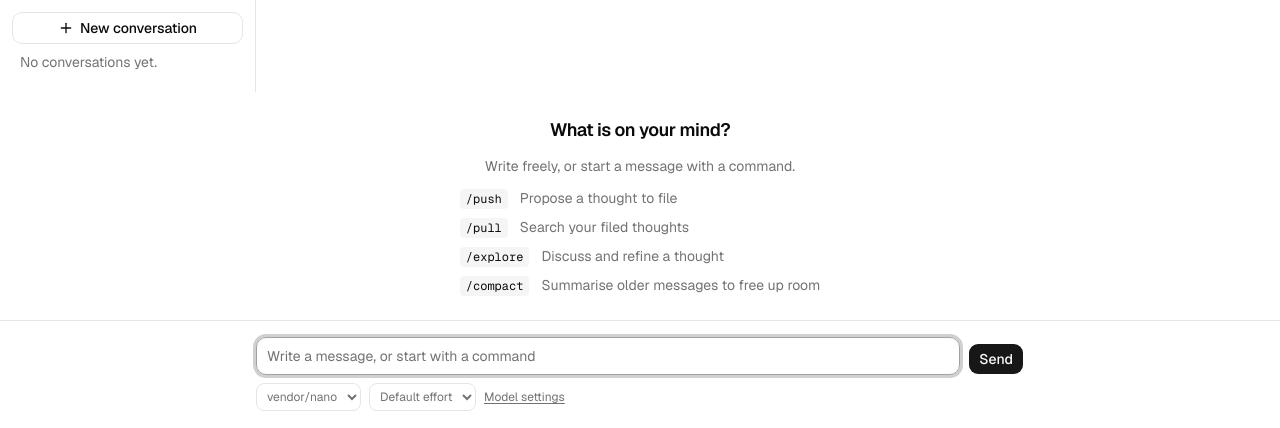
Test: NewChat › starts an empty chat on New conversation after a conversation began on the page
Type "first" into the text box labelled "message" at x=608, y=356, box [256,337,960,375]
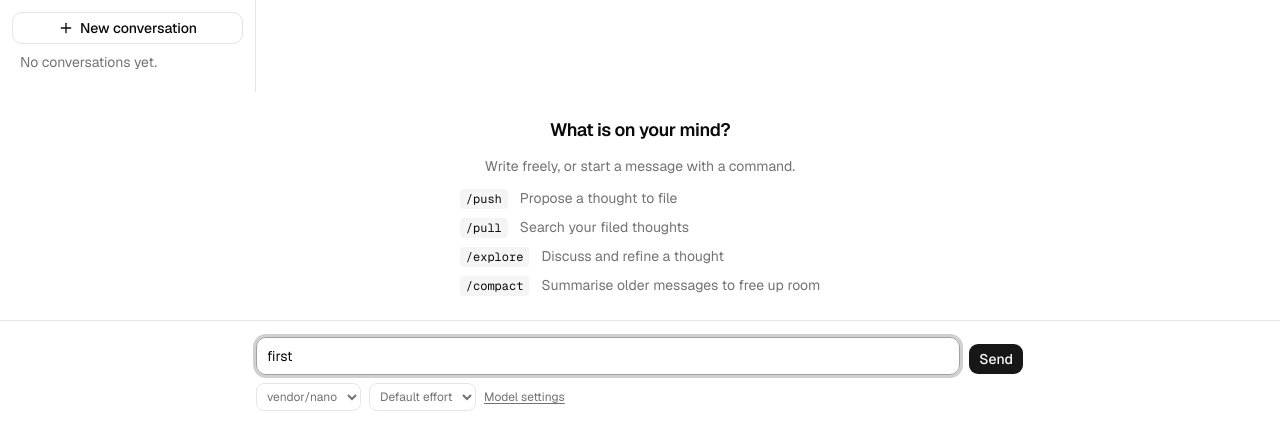
Click the button "Send" at x=996, y=359, box [968,343,1024,375]
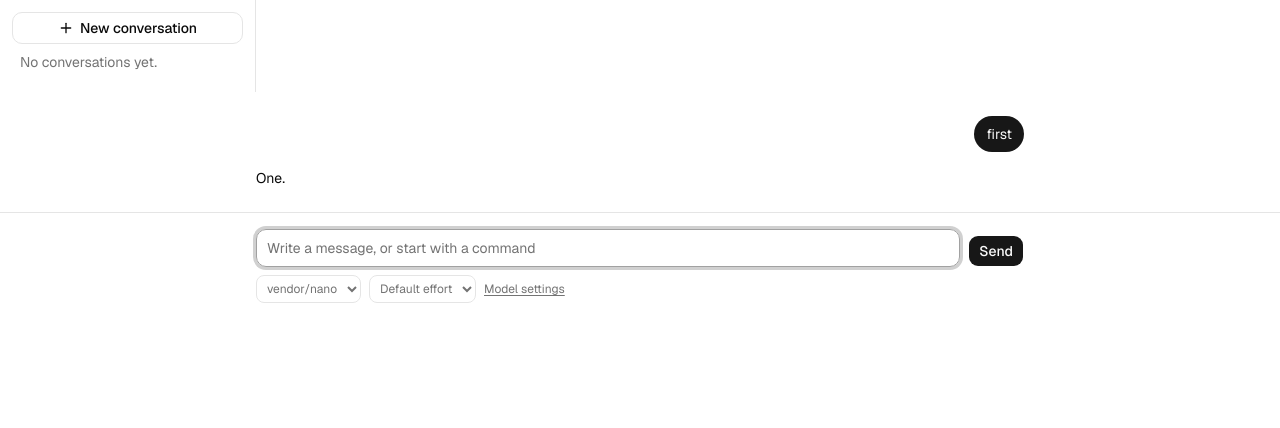
expect the text "One." is shown: met, box [256,168,285,188]
Click the button "New conversation" at x=128, y=28, box [12,12,243,44]
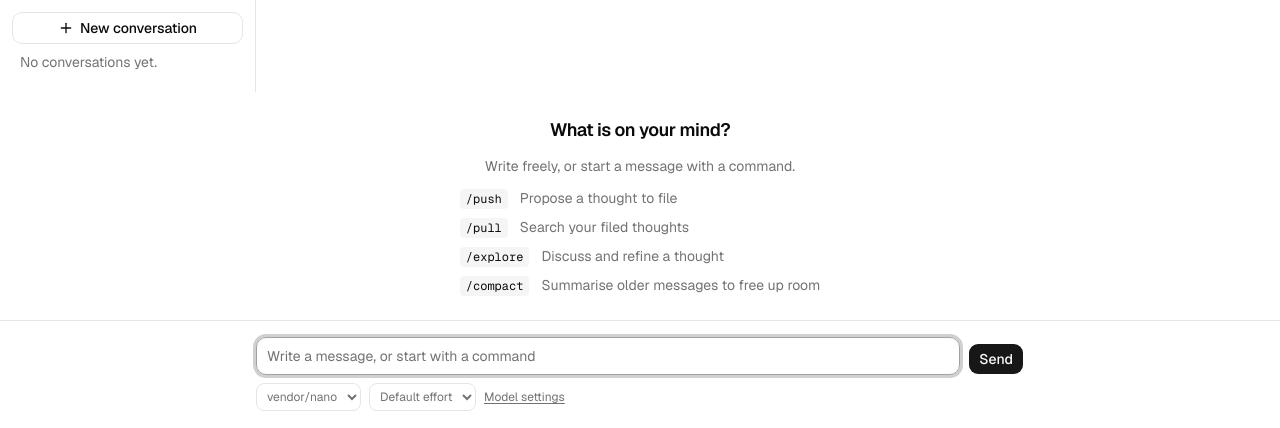
expect the text "One." is gone: met
Type "second" into the text box labelled "message" at x=608, y=356, box [256,337,960,375]
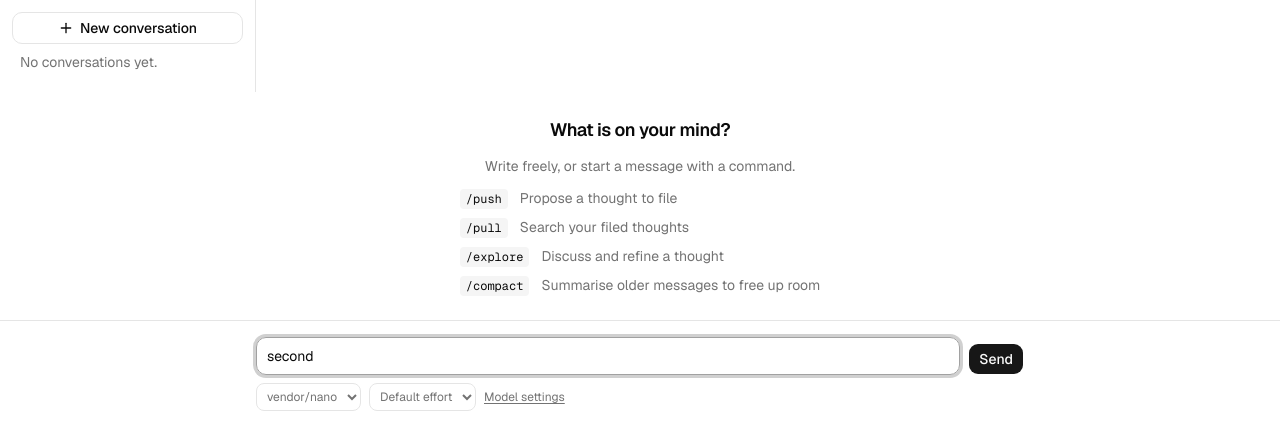
Click the button "Send" at x=996, y=359, box [968,343,1024,375]
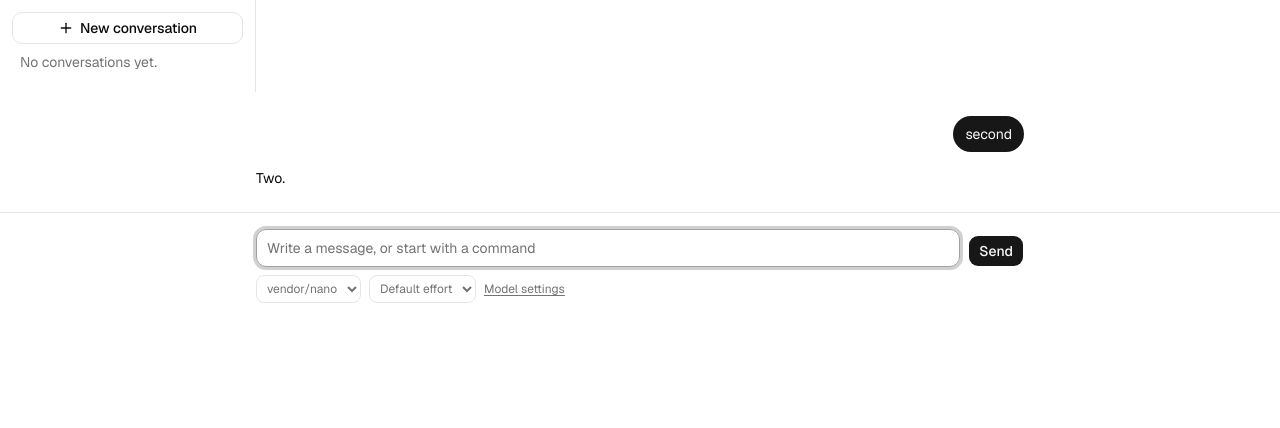
expect the text "Two." is shown: met, box [256,168,285,188]
